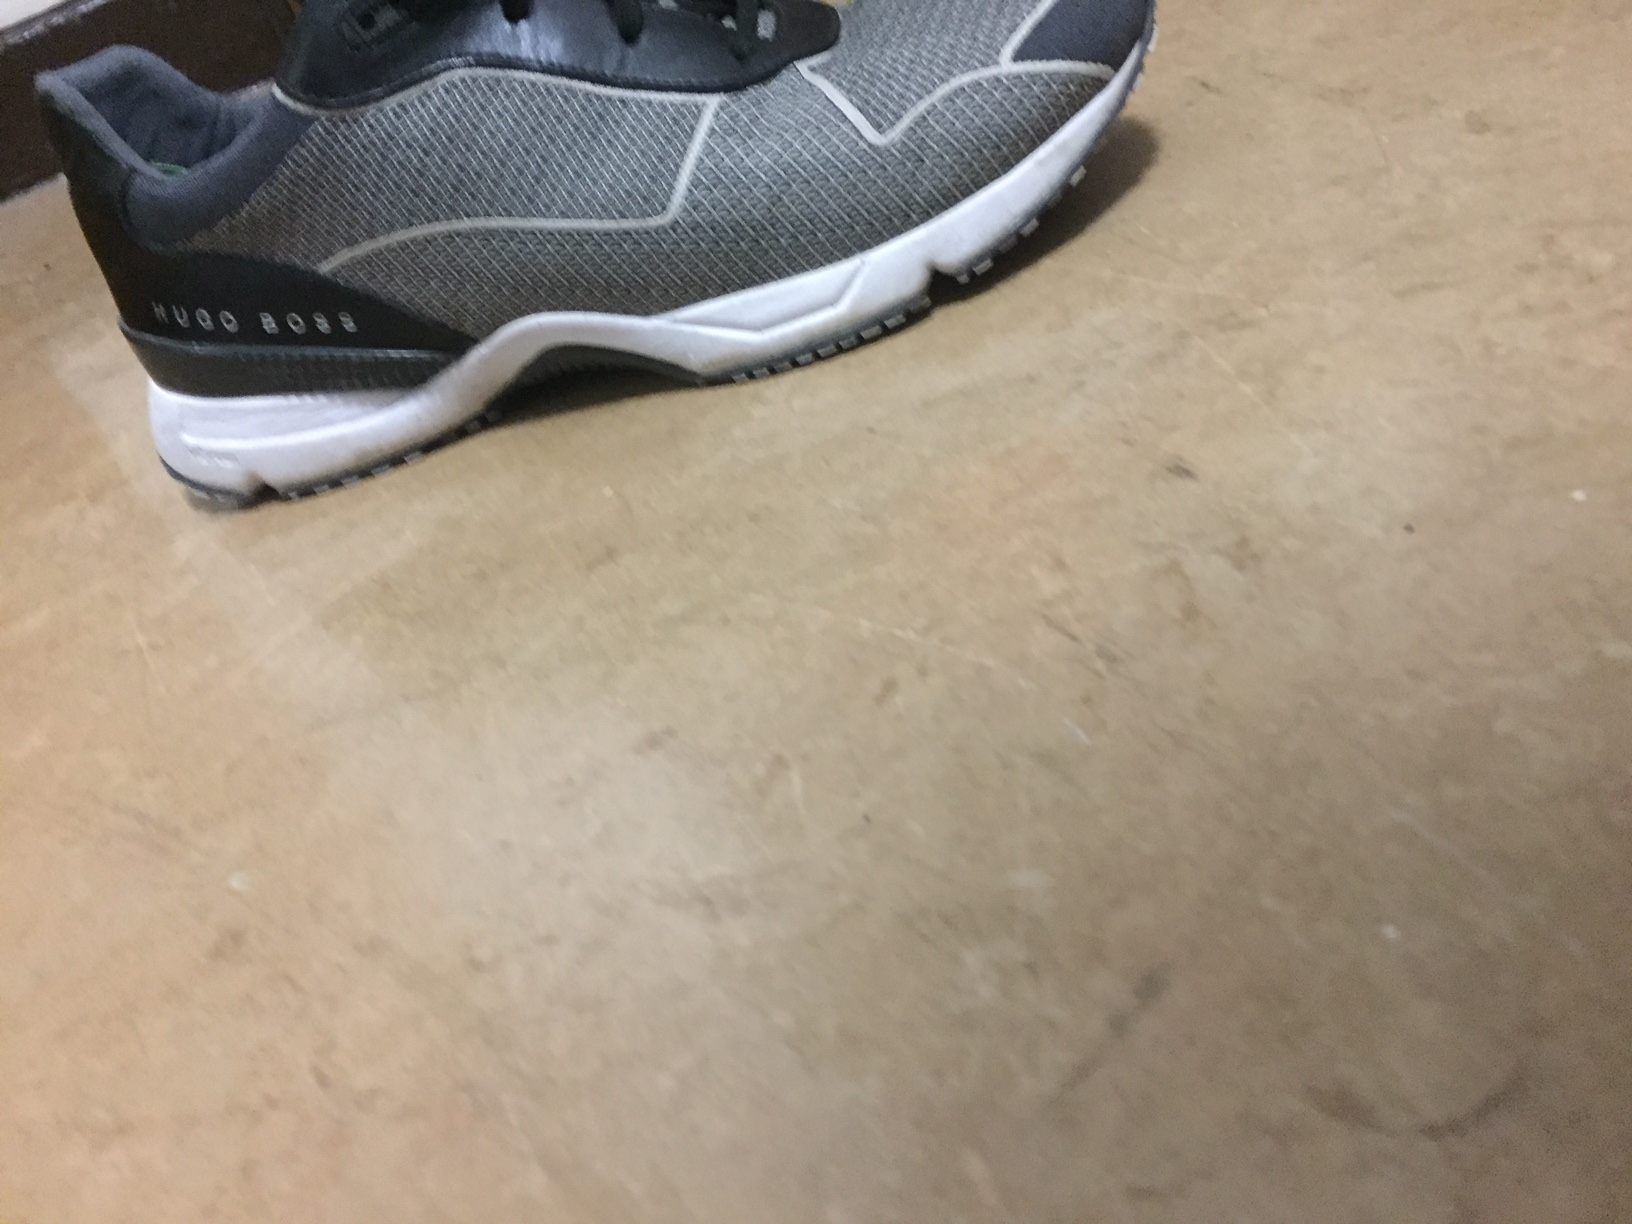car: (31, 1, 1159, 521)
